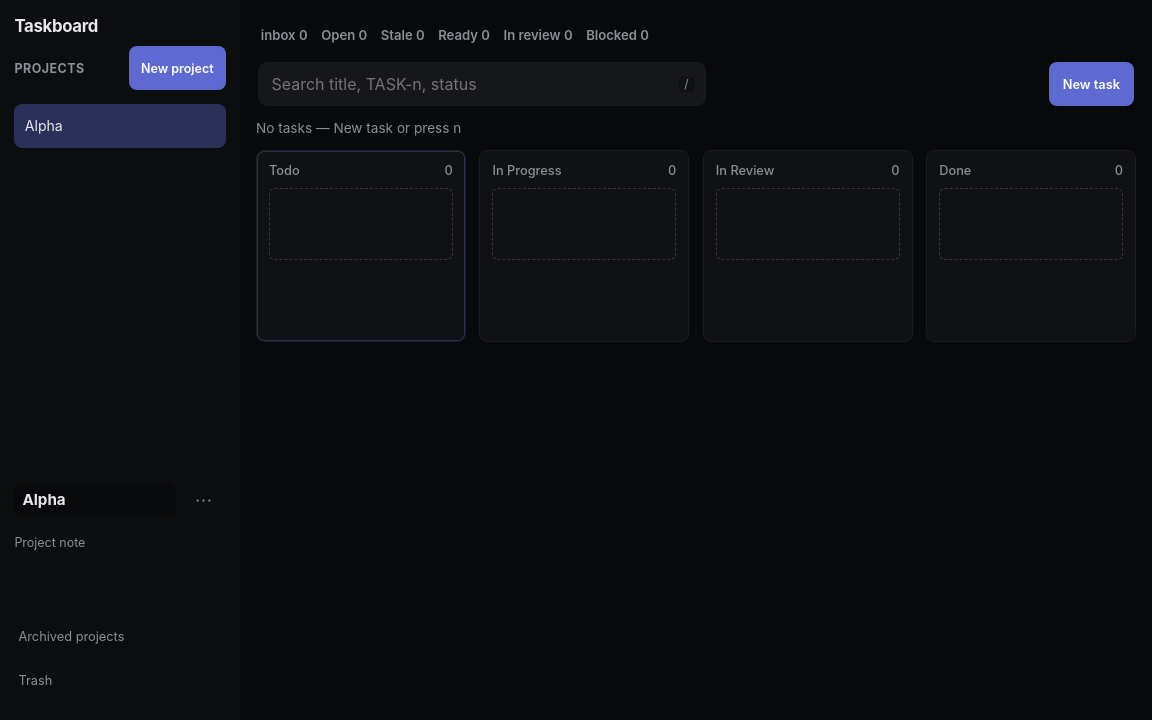
Scenario: TrashPanel › shows empty copy when trash has nothing
Expected: the list named "Todo" is shown, [269,188,453,260]
Click the button "Trash". click: {"x": 120, "y": 680}
box: [14,658,226,702]
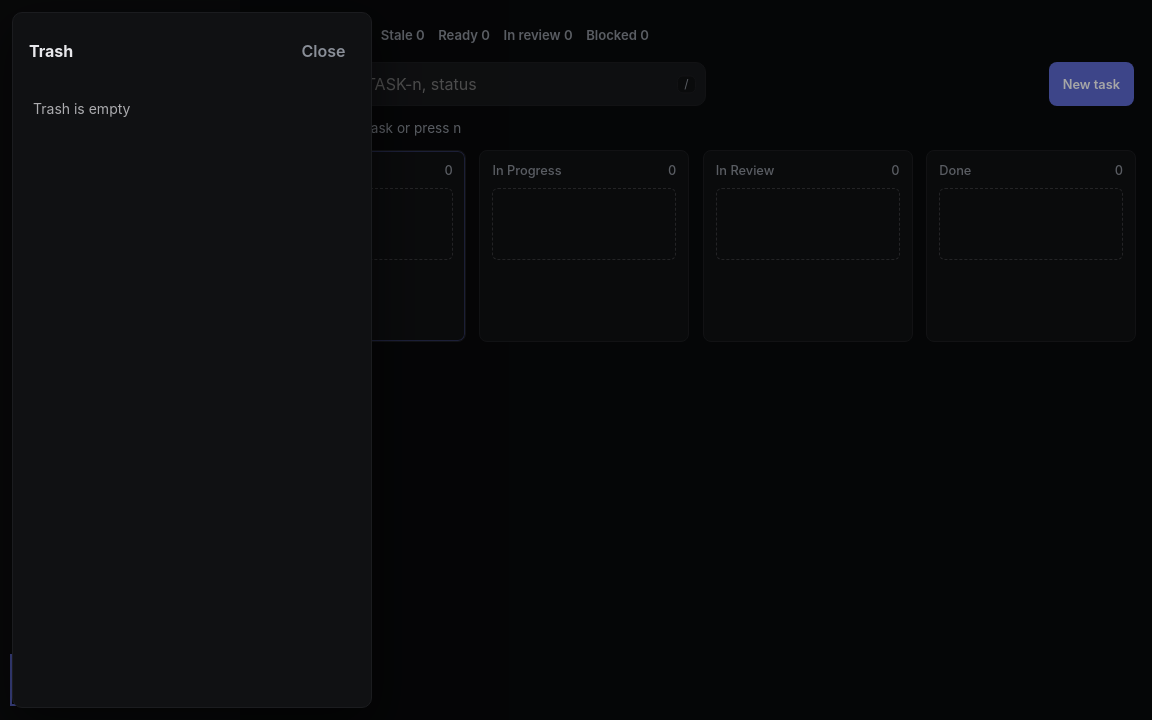
Result: the text "Trash is empty" is shown at [33,100,130,117]
